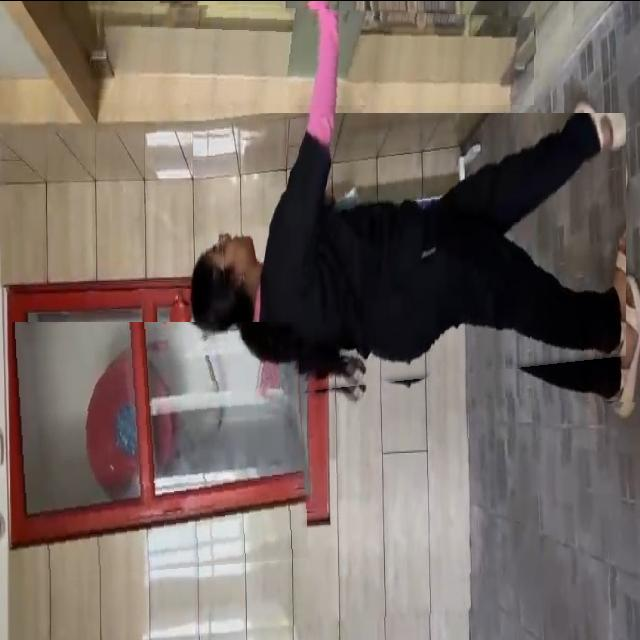door: (12, 321, 309, 581), (92, 0, 534, 104)
floor: (466, 396, 640, 640)
moving_object: (201, 112, 626, 402)
